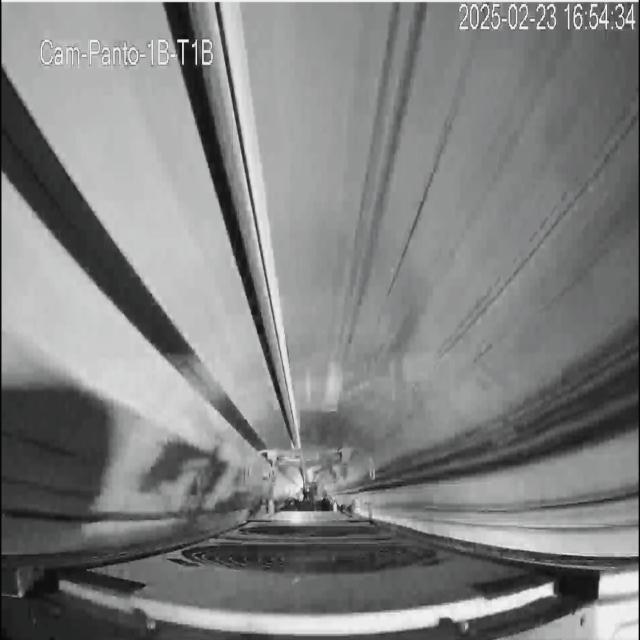Camera Stamp: (43, 31, 218, 69)
Date Stamp: (458, 3, 635, 33)
